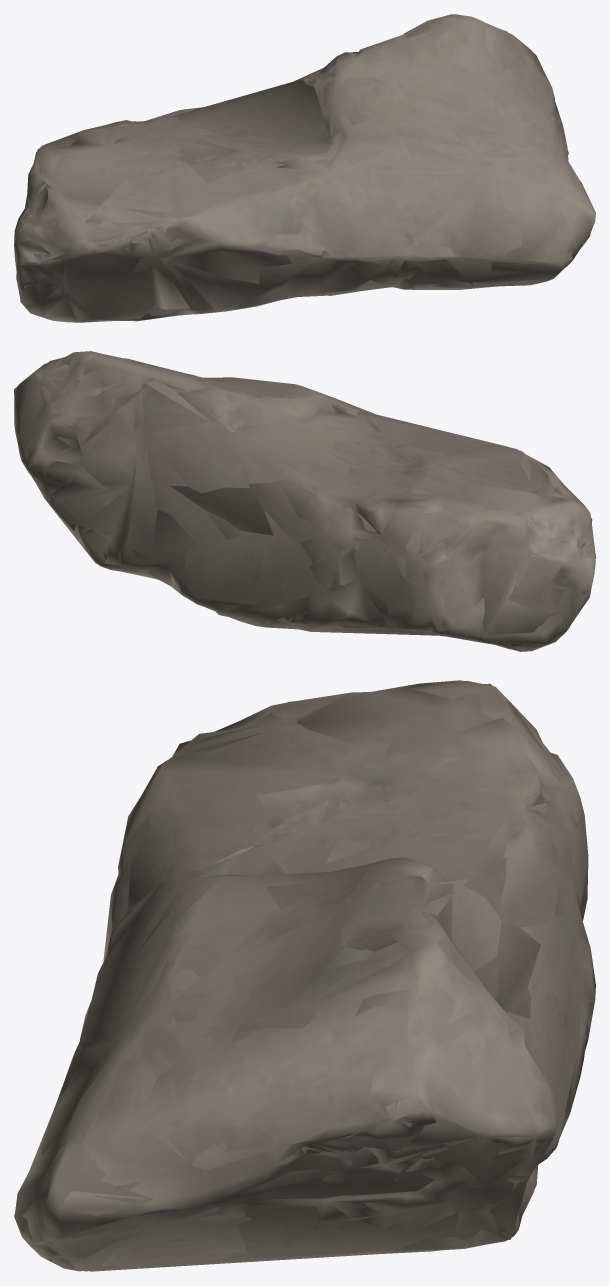
Rendered from moon_rock_01.glb.
The picture shows the model from 3 angles, top to bottom: view 1: azimuth 30°, elevation 25°; view 2: azimuth 150°, elevation 25°; view 3: azimuth 270°, elevation 25°; orthographic projection. The views are drawn at different scales.
Parts seen in each view (by area): view 1: moon_rock_01_LOD0; view 2: moon_rock_01_LOD0; view 3: moon_rock_01_LOD0.
Part boxes in pixels (x1=…): moon_rock_01_LOD0: x1=14, y1=14, x2=595, y2=322; moon_rock_01_LOD0: x1=14, y1=351, x2=595, y2=651; moon_rock_01_LOD0: x1=14, y1=680, x2=595, y2=1271.
Size of the model in its own units: 0.2123 by 0.0751 by 0.1114.
Materials: 1 (1 with a texture image).
